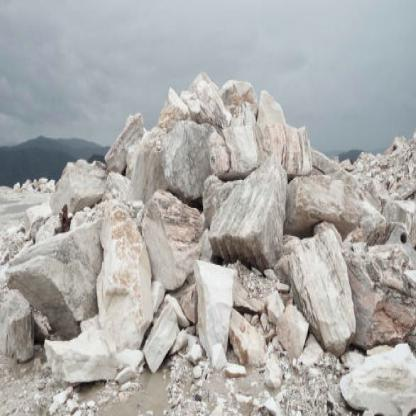Sedimentary_Limestone: (85, 207, 158, 352), (286, 209, 359, 352), (1, 247, 98, 350), (212, 155, 287, 270), (288, 162, 374, 248), (154, 116, 230, 207), (193, 254, 246, 380), (111, 108, 146, 174)
